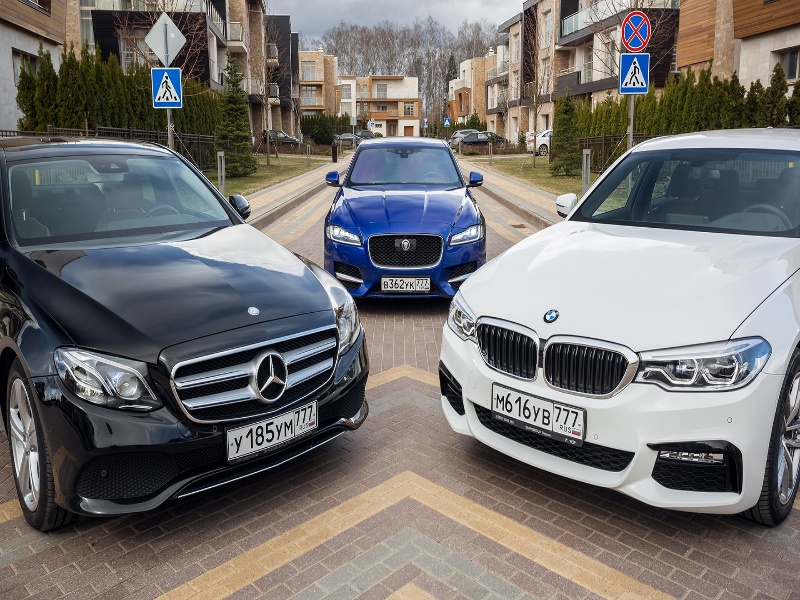car: (1, 135, 369, 532), (438, 127, 800, 525), (323, 137, 487, 305), (526, 130, 552, 156), (263, 130, 299, 147), (448, 129, 478, 148), (331, 134, 363, 147), (461, 132, 492, 143)
plate: (491, 382, 583, 454), (227, 399, 317, 461), (381, 277, 430, 292)
